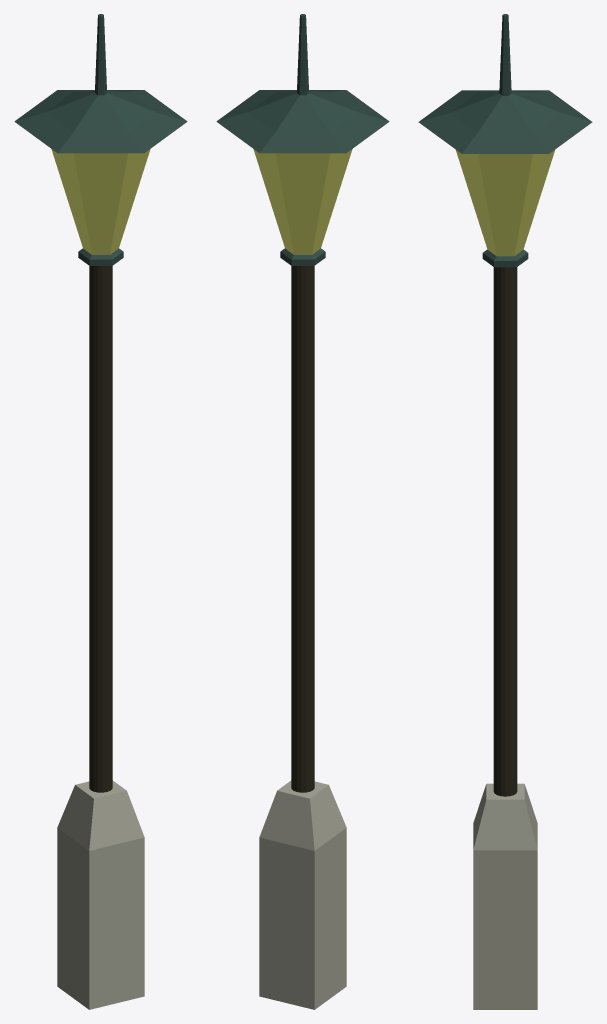
Rendered from lamp.fbx.
The picture shows the model from 3 angles, left to right: view 1: azimuth 30°, elevation 25°; view 2: azimuth 150°, elevation 25°; view 3: azimuth 270°, elevation 25°; orthographic projection.
Parts seen in each view (by area): view 1: lamp; view 2: lamp; view 3: lamp.
Part boxes in pixels (<box>): lamp: <box>14,14,187,1009</box>; lamp: <box>216,14,389,1009</box>; lamp: <box>418,14,592,1009</box>.
Size of the model in its own units: 1.22 by 8.78 by 1.41.
